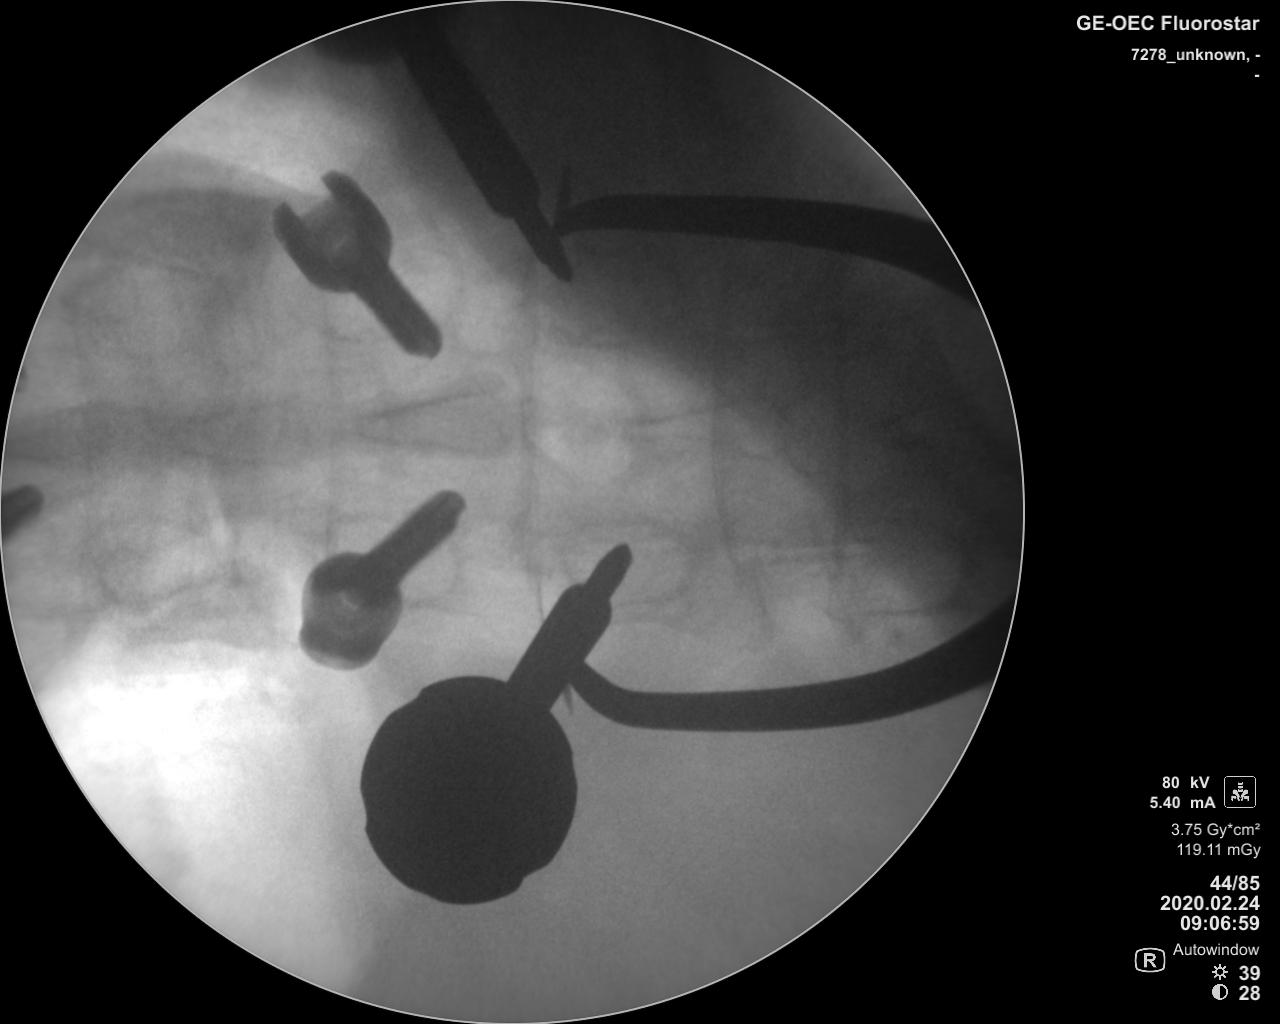eyes: (831, 511, 968, 619), (98, 255, 223, 355), (557, 516, 699, 604), (551, 254, 684, 344), (98, 513, 217, 606), (334, 516, 457, 603), (350, 240, 464, 333)
line: (510, 254, 545, 613), (705, 254, 741, 583), (66, 299, 104, 560), (830, 287, 858, 587), (316, 292, 348, 548)
nose: (600, 394, 792, 462), (348, 386, 517, 459), (155, 398, 320, 471), (9, 400, 133, 469)
